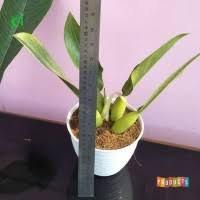ylang-ylang: (44, 39, 147, 123), (41, 104, 136, 181)
